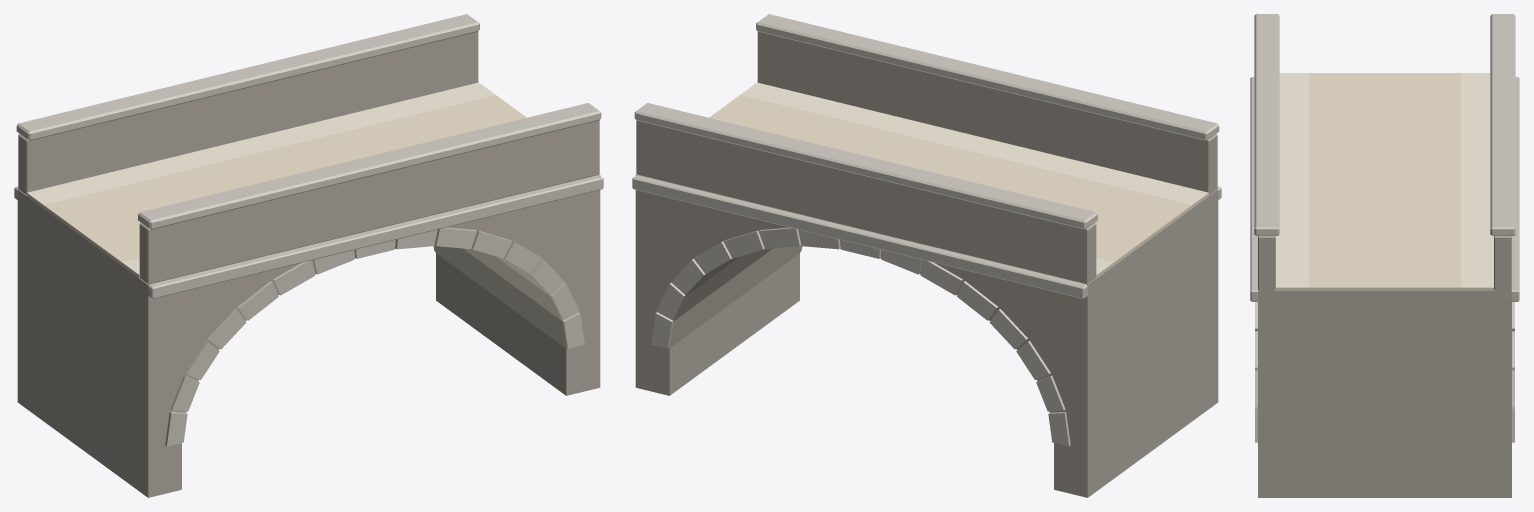
File: bridge_span.glb
The picture shows the model from 3 angles, left to right: view 1: azimuth 30°, elevation 25°; view 2: azimuth 150°, elevation 25°; view 3: azimuth 270°, elevation 25°; orthographic projection. The views are drawn at different scales.
Parts seen in each view (by area): view 1: span; view 2: span; view 3: span.
Part boxes in pixels (x1,y1,x2,y2): span: (14,14,603,497); span: (632,14,1221,497); span: (1250,14,1519,497).
Size of the model in its own units: 8 by 4.7 by 4.24.
